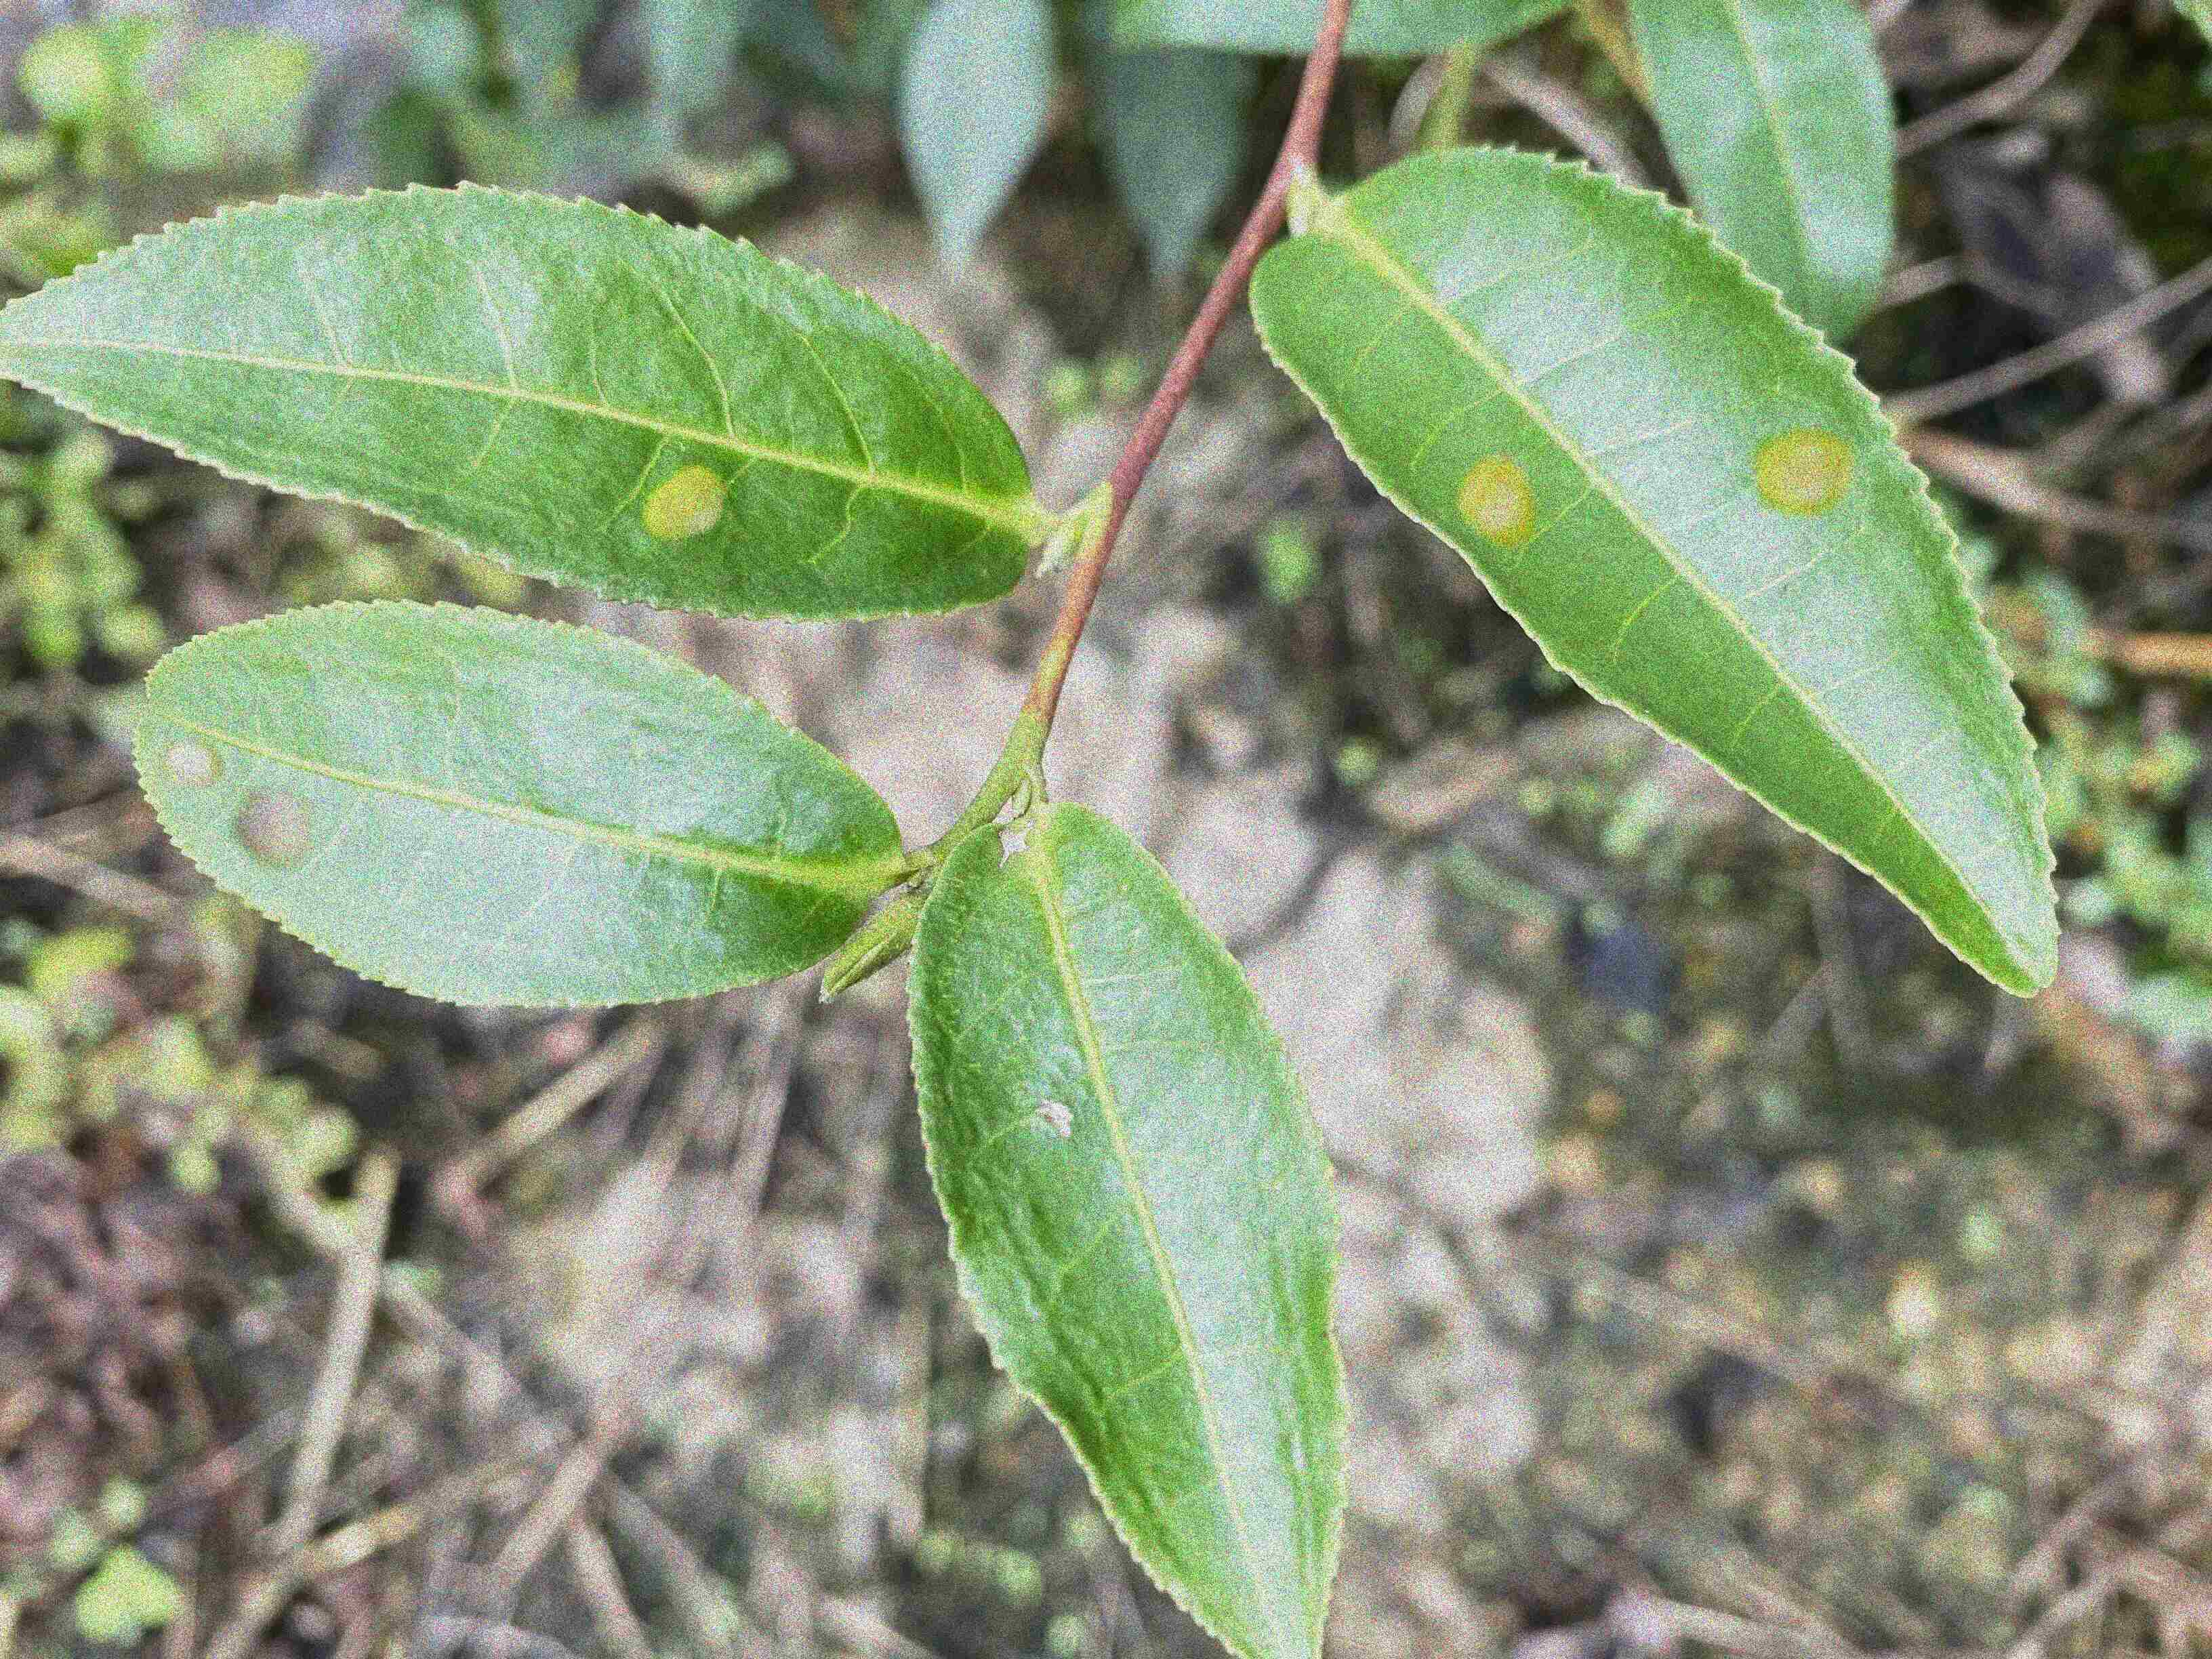chabing_high: (1249, 139, 2066, 999), (131, 598, 909, 1009)
chabing_low: (2, 181, 1038, 627)
tanju_low: (906, 796, 1348, 1654)
